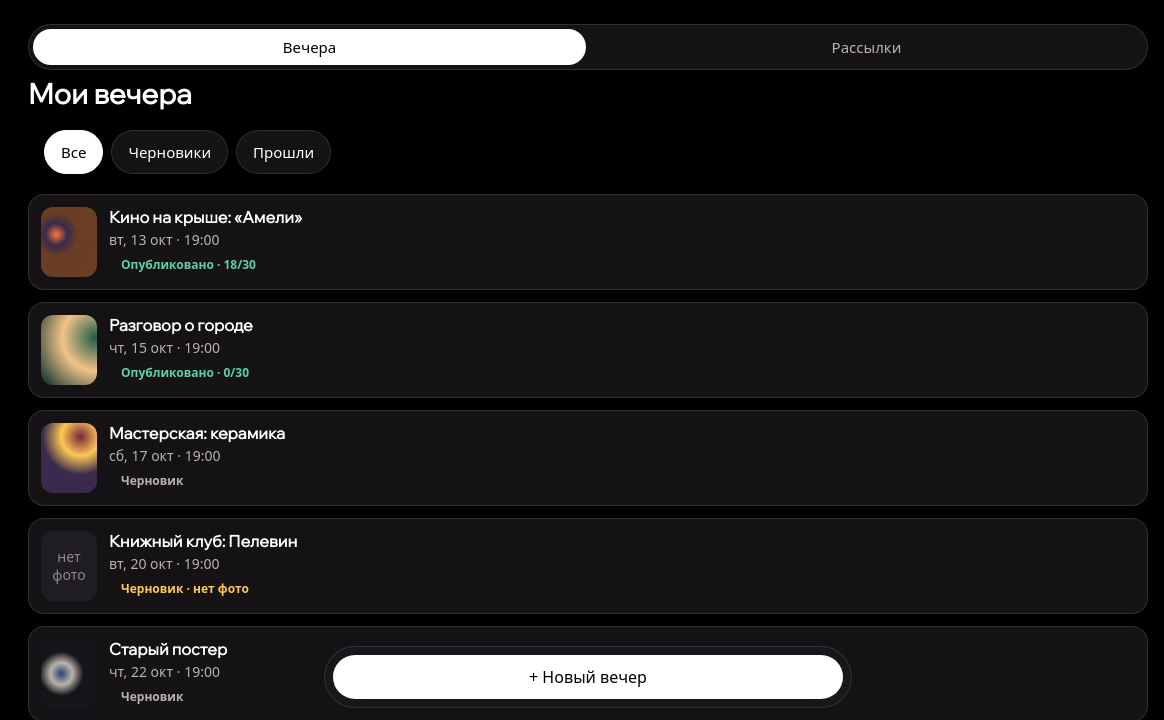
OwnerEvents › switches to broadcasts by the tab
Click the link "Рассылки" at (866, 47), box [832, 37, 901, 57]
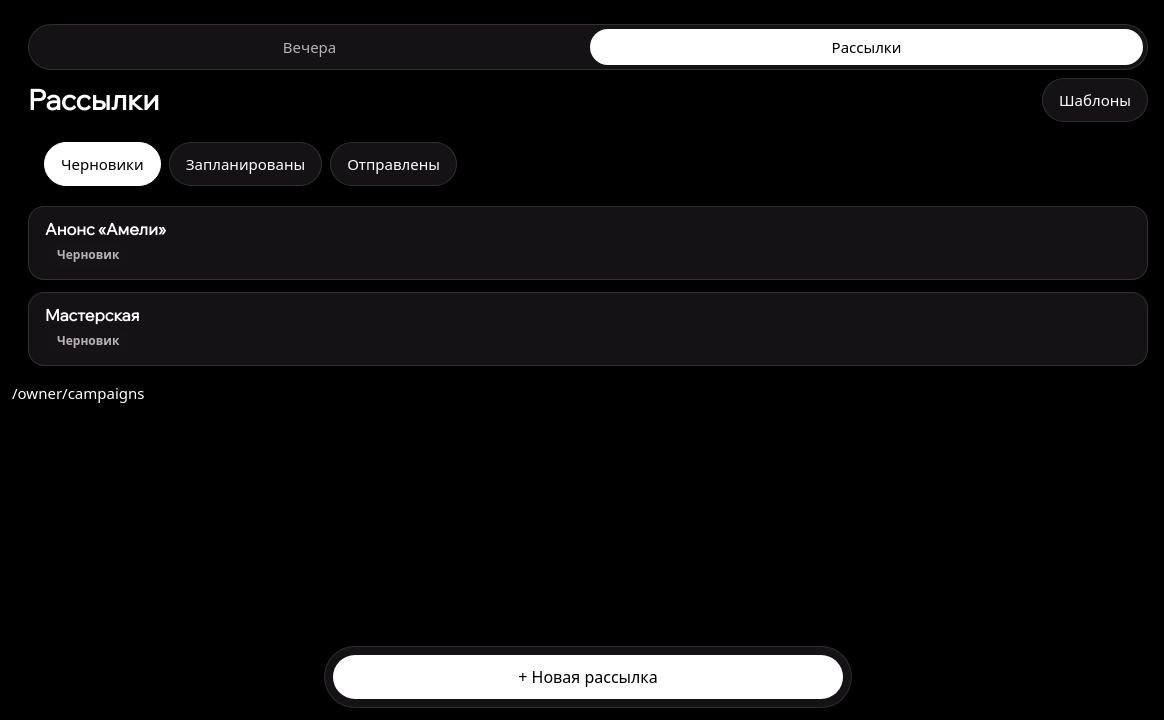
Now the text with test id "where" reads "/owner/campaigns", box [12, 383, 144, 403]
Now the heading "Рассылки" is shown, box [28, 84, 159, 116]
